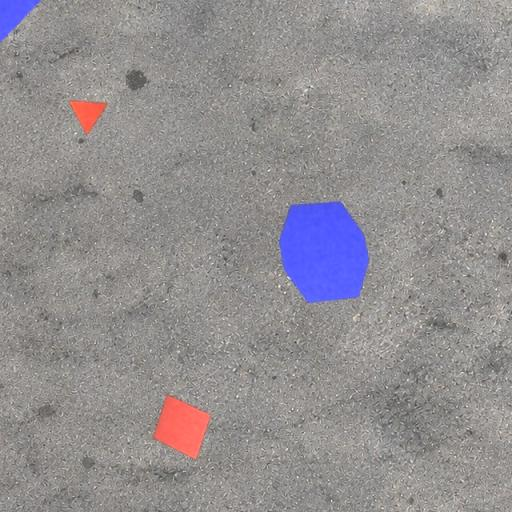RED_SQUARE: (152, 394, 211, 460)
